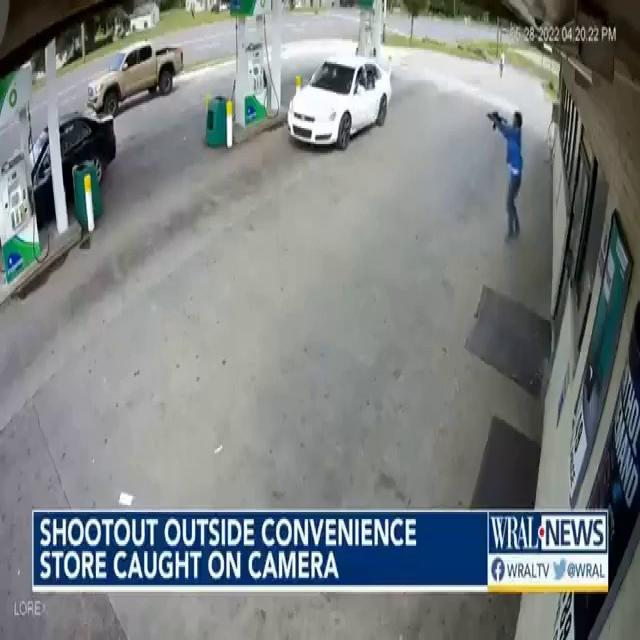penembakan: (486, 105, 526, 242)
